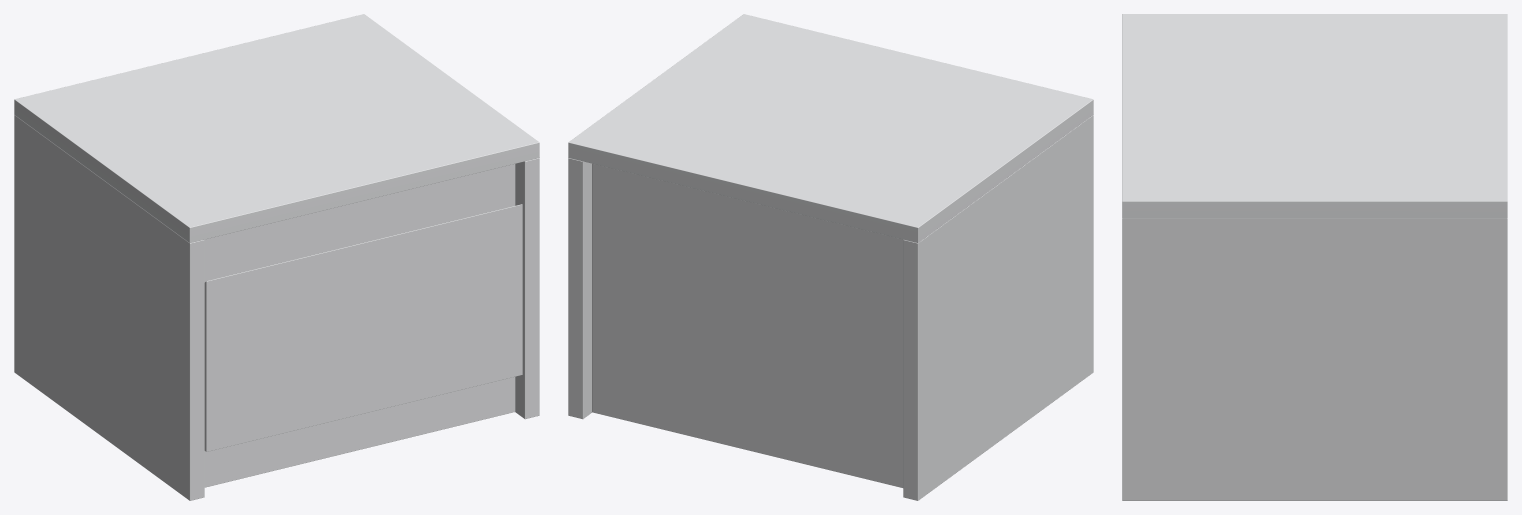
File: table_B07H8V49GP.glb
3 renders of one model, left to right at view 1: azimuth 30°, elevation 25°; view 2: azimuth 150°, elevation 25°; view 3: azimuth 270°, elevation 25°, orthographic. The views are drawn at different scales.
Parts seen in each view (by area): view 1: RootNode; view 2: RootNode; view 3: RootNode.
Part boxes in pixels (x1,y1,x2,y2): RootNode: (14, 14, 539, 500); RootNode: (568, 14, 1093, 500); RootNode: (1122, 14, 1507, 500).
Bounding box in the file's own units: 0.4698 × 0.3505 × 0.4081.
Materials: 1 (1 with a texture image).
